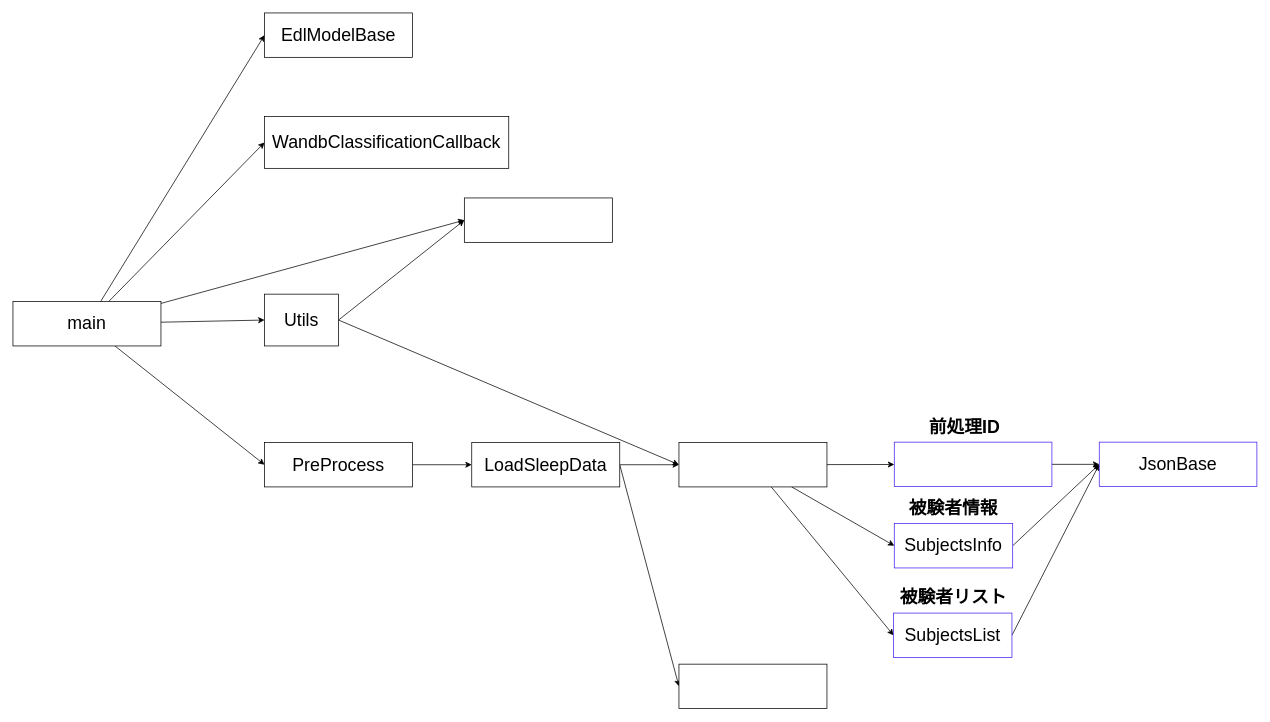
Image size: 1270x722. Some labels were removed from this diagram. Here are the shapes that lost their labels. From the top down, the centre of each, then its label:
(x=538, y=219): EdlLoss
(x=752, y=464): MyEnv
(x=973, y=464): PreProcessedId
(x=752, y=686): Record
